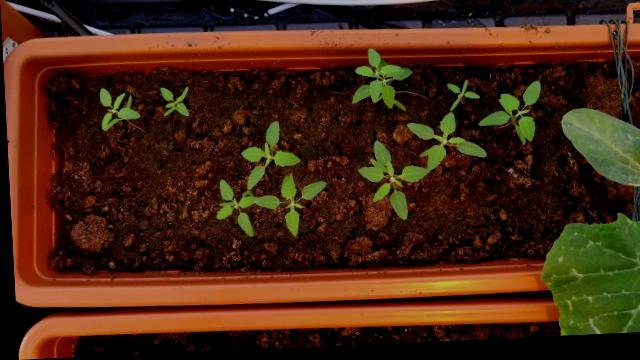weed: (88, 82, 142, 134), (438, 79, 483, 116), (152, 83, 193, 121)
